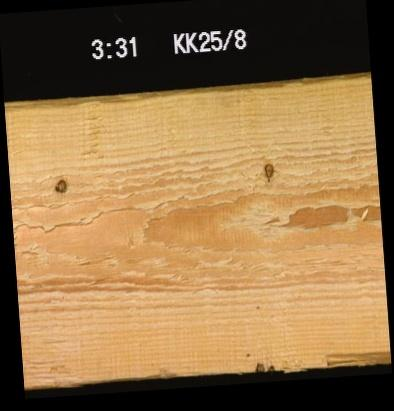dry_knot: (52, 177, 67, 193), (261, 161, 273, 178)
edge_knot: (253, 360, 263, 371), (265, 363, 275, 371)
wave: (4, 94, 150, 113), (321, 345, 389, 364)
